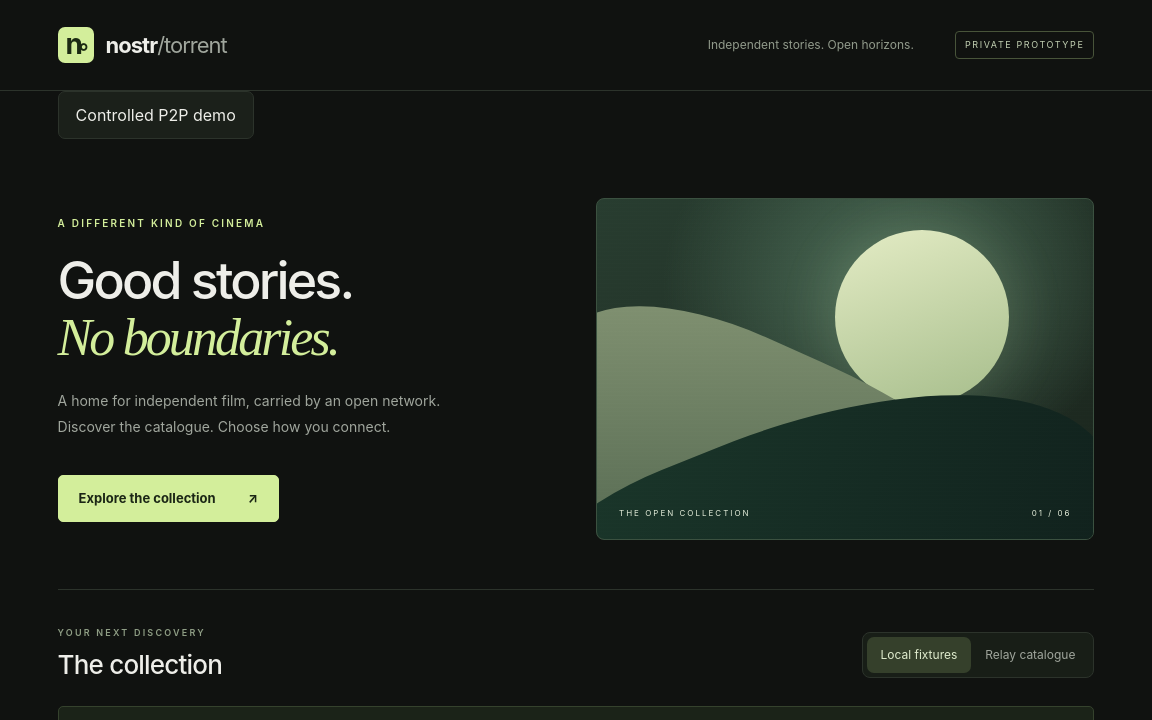
Test: keeps relay connections opt-in and exposes semantic keyboard controls
Click the button "Relay catalogue" at (1030,655), box [971, 637, 1089, 673]
(page scrolled)
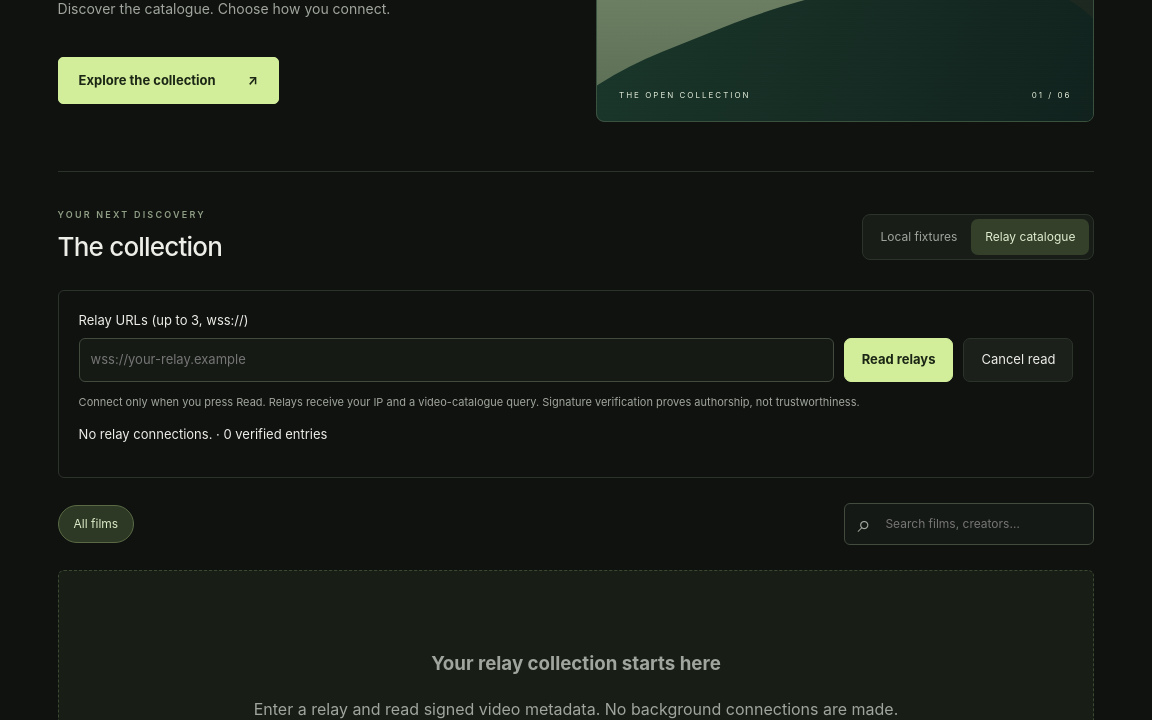
Check: the label "Relay URLs (up to 3, wss://)" is shown, box [79, 312, 248, 328]
Check: the button "Read relays" is shown
Click the button "Read relays" at (899,360), box [844, 338, 954, 382]
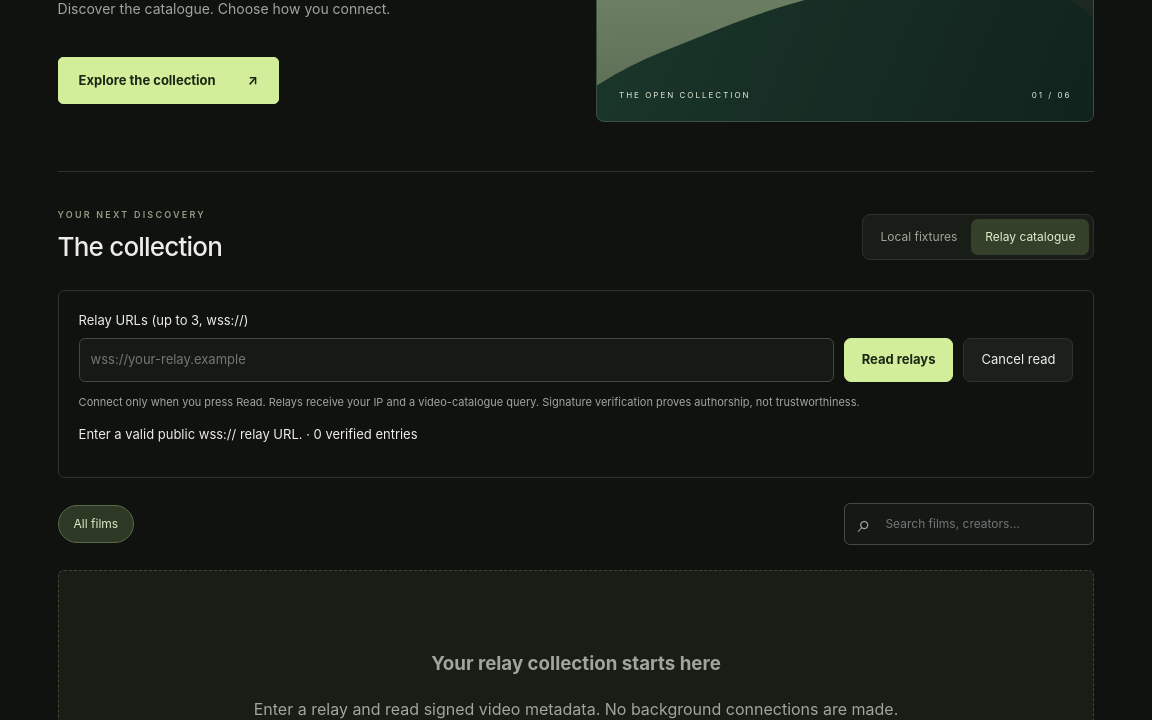
Check: the text "Enter a valid public wss:// relay URL" is shown, box [79, 426, 302, 442]
